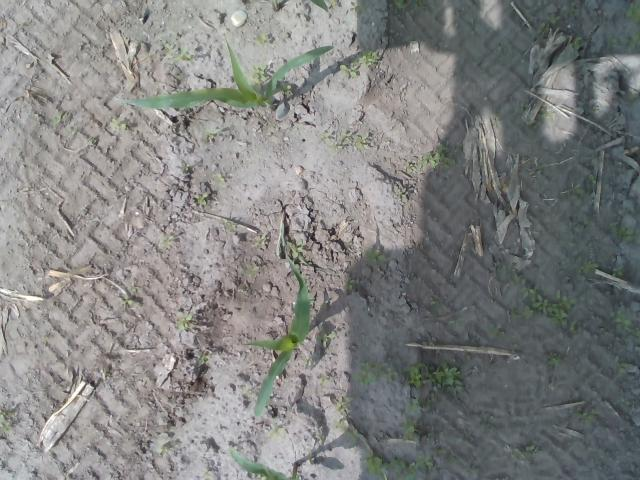Maize: (112, 35, 334, 110), (242, 255, 315, 418), (227, 444, 302, 480), (268, 0, 332, 16)
Weeds: (510, 267, 580, 336), (356, 356, 466, 391), (362, 454, 433, 480), (334, 394, 362, 444), (320, 130, 370, 154), (415, 142, 456, 170), (432, 432, 464, 466), (404, 394, 440, 417), (611, 311, 640, 337), (609, 222, 640, 244), (535, 12, 560, 36), (350, 46, 380, 66), (161, 42, 192, 61), (510, 443, 542, 461), (605, 31, 640, 47), (120, 280, 139, 306), (364, 247, 388, 267), (574, 407, 598, 426), (316, 326, 336, 348), (532, 110, 556, 128), (568, 182, 591, 200), (579, 257, 597, 280), (0, 407, 14, 435), (625, 1, 640, 24), (488, 319, 506, 338), (340, 64, 360, 81), (428, 294, 442, 318), (286, 241, 303, 260), (252, 64, 268, 82), (404, 423, 419, 442), (544, 349, 560, 366), (269, 422, 285, 438), (566, 35, 584, 49), (388, 0, 415, 9), (448, 316, 468, 328), (50, 110, 64, 126), (176, 316, 192, 330), (157, 440, 171, 456), (193, 193, 210, 206), (108, 118, 125, 131), (160, 234, 174, 249), (402, 158, 416, 173), (342, 278, 358, 290), (254, 237, 269, 249), (214, 172, 226, 187), (613, 264, 624, 280), (616, 360, 628, 374), (280, 82, 292, 95), (257, 33, 271, 44), (399, 187, 408, 201), (518, 103, 530, 113), (319, 376, 329, 386), (588, 173, 598, 183), (88, 137, 96, 146)
